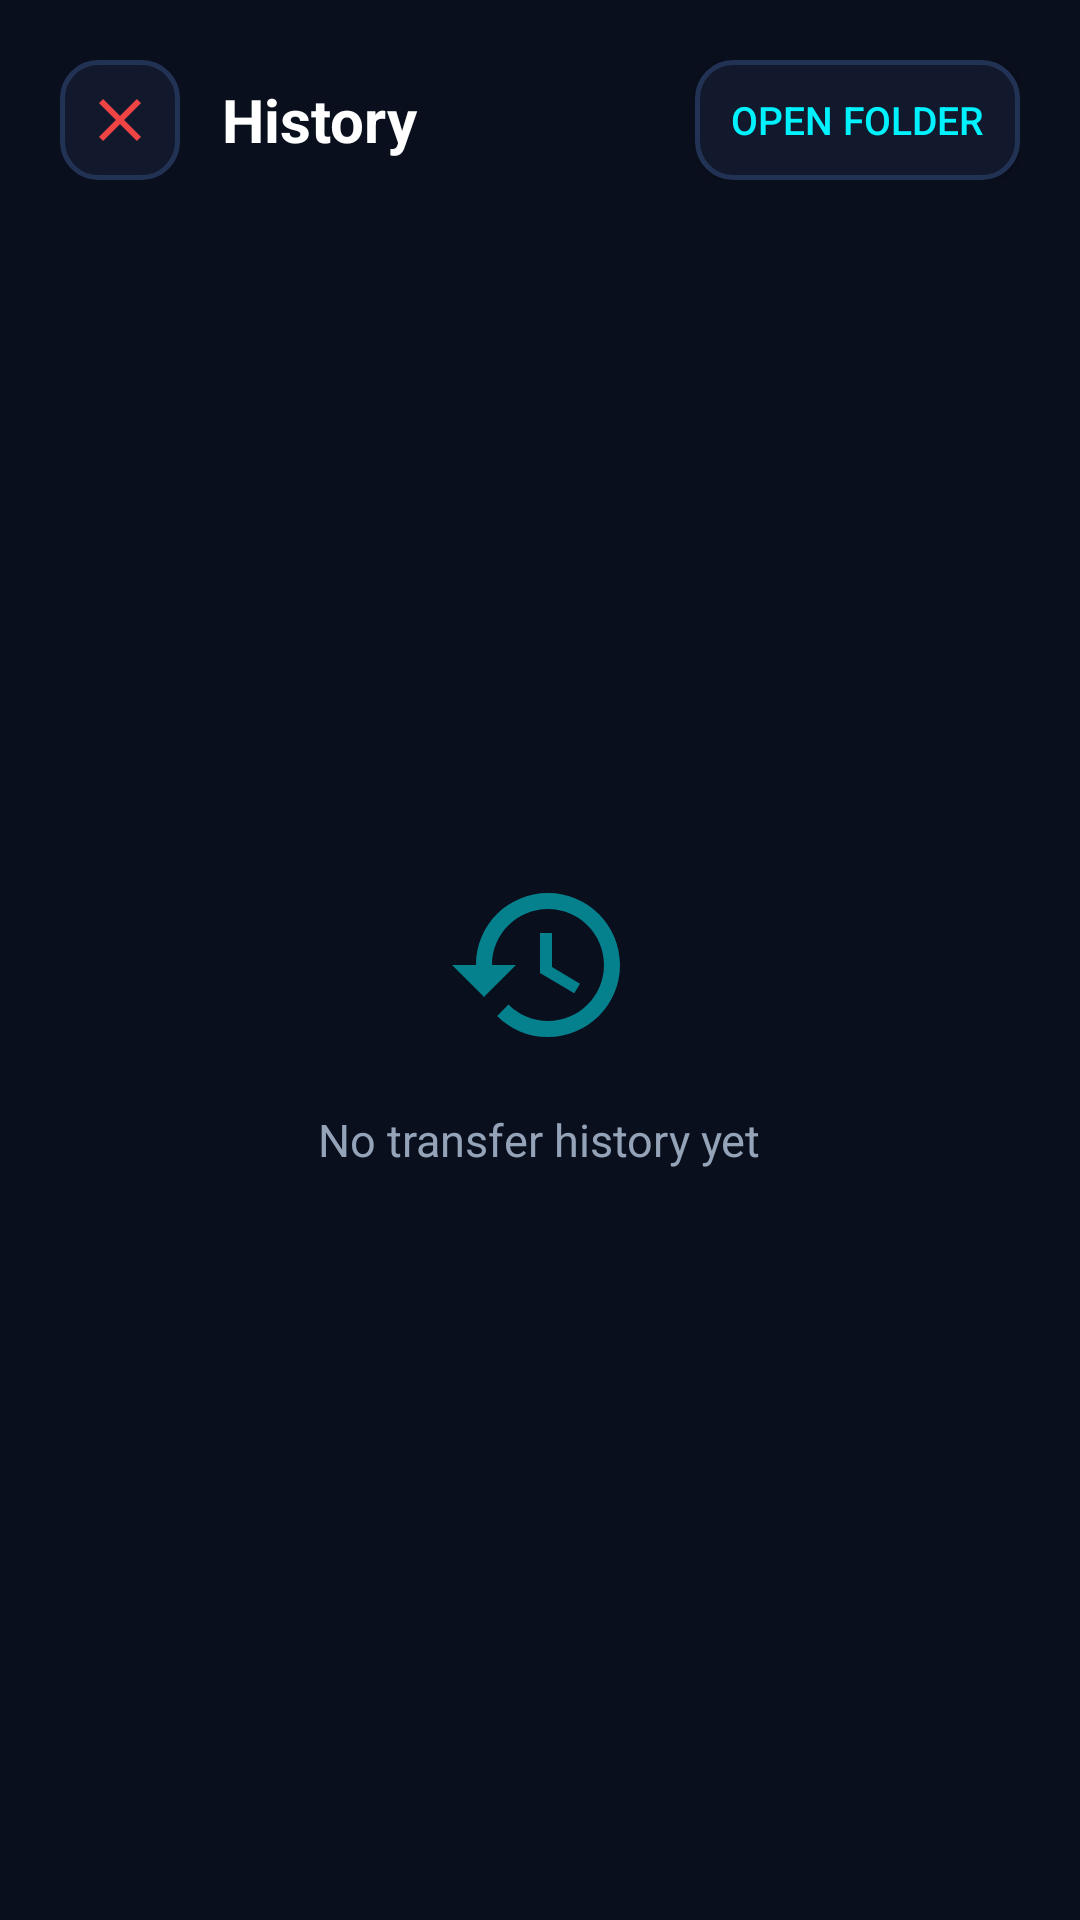

Named icons in this screenshot (1080px x 1920px) and their centers, [x,y]:
close: [120,120]
